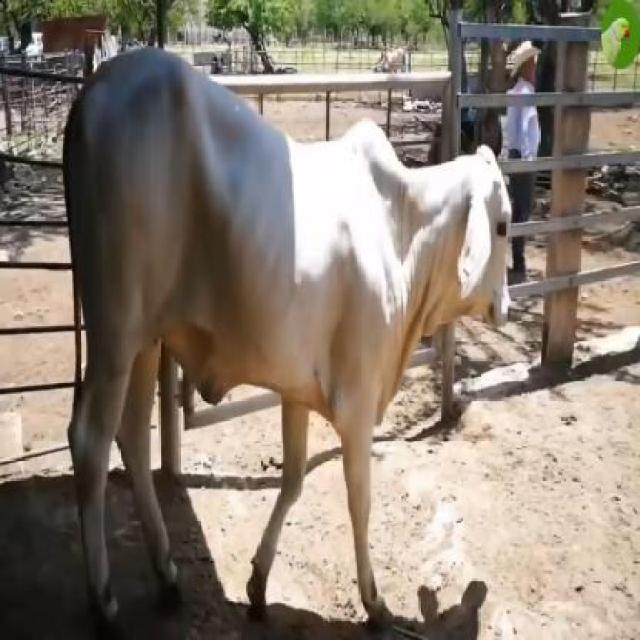Cow: (62, 45, 510, 626)
